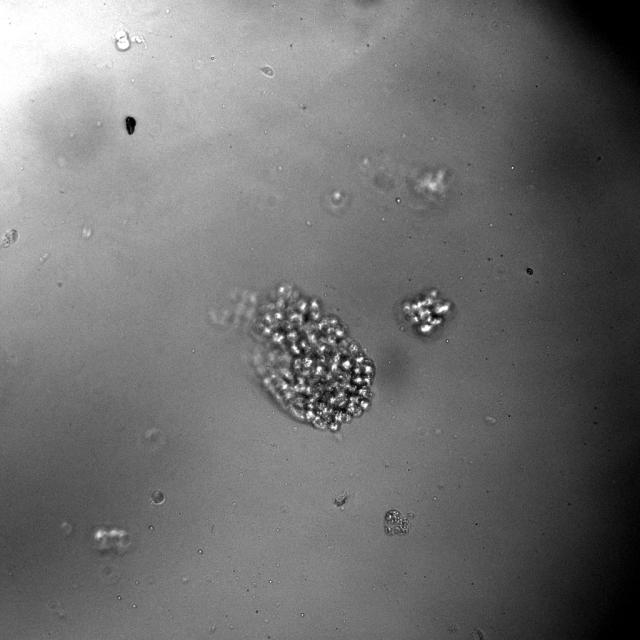organoid: (209, 283, 375, 431), (397, 288, 454, 338), (384, 509, 410, 535), (114, 29, 131, 51), (150, 489, 164, 505), (526, 267, 534, 276)
